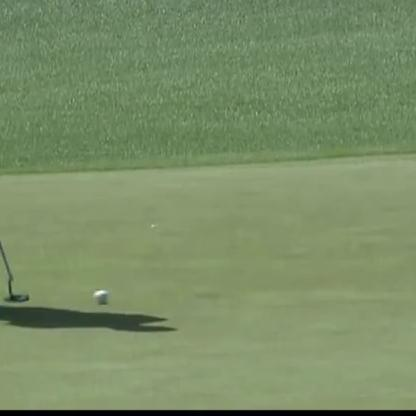golfball: (92, 285, 108, 303)
